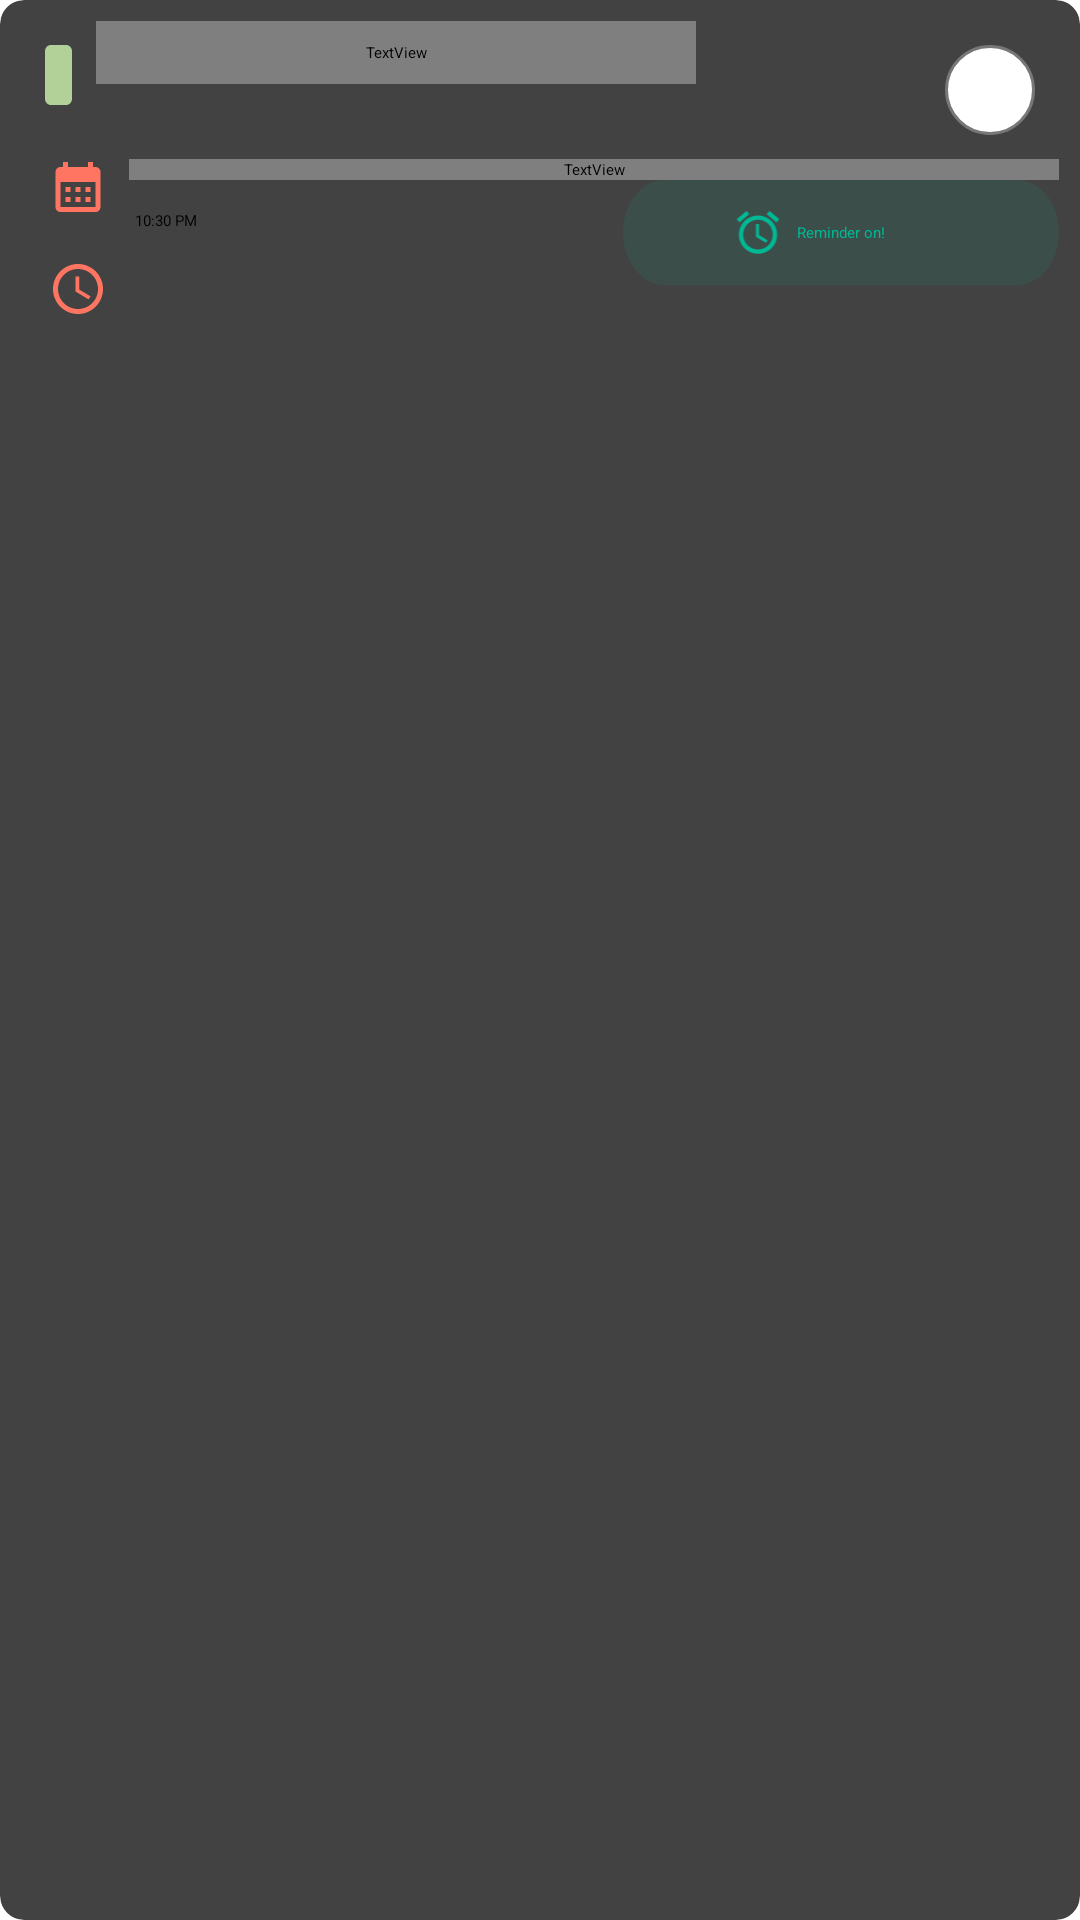

Locate icon controls on the screen. Image size 1080*1920, boxes as box(x1, y1, x2, y2).
alarm: box(737, 211, 779, 254)
timeview overdue: box(53, 264, 103, 314)
